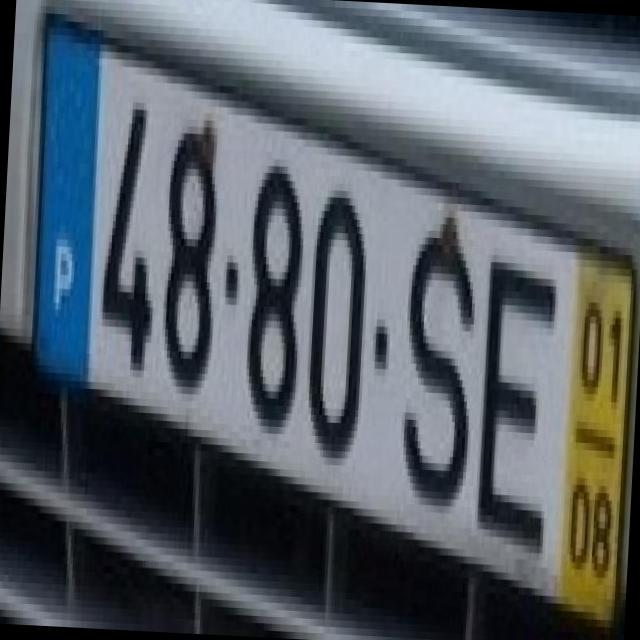0: (292, 168, 377, 452)
4: (78, 72, 170, 364)
8: (143, 96, 236, 389), (226, 144, 312, 436)
E: (460, 233, 570, 541)
S: (378, 187, 488, 508)
